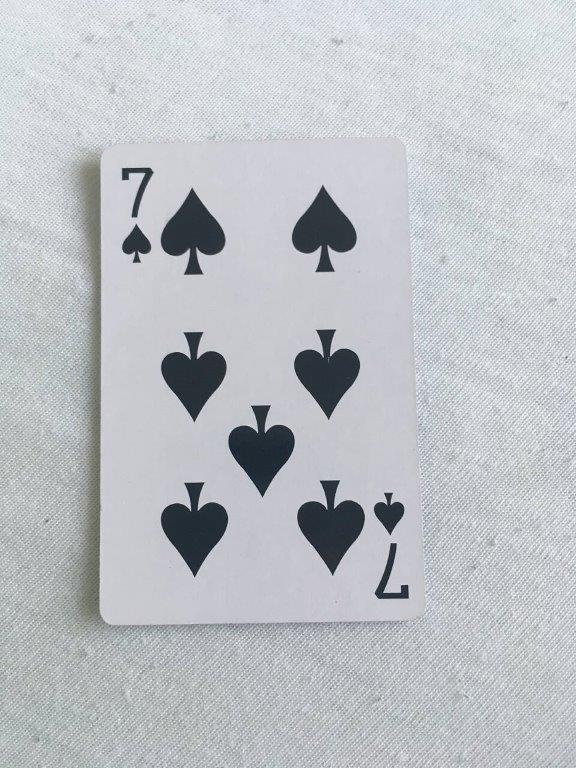7S: (96, 136, 430, 629)
